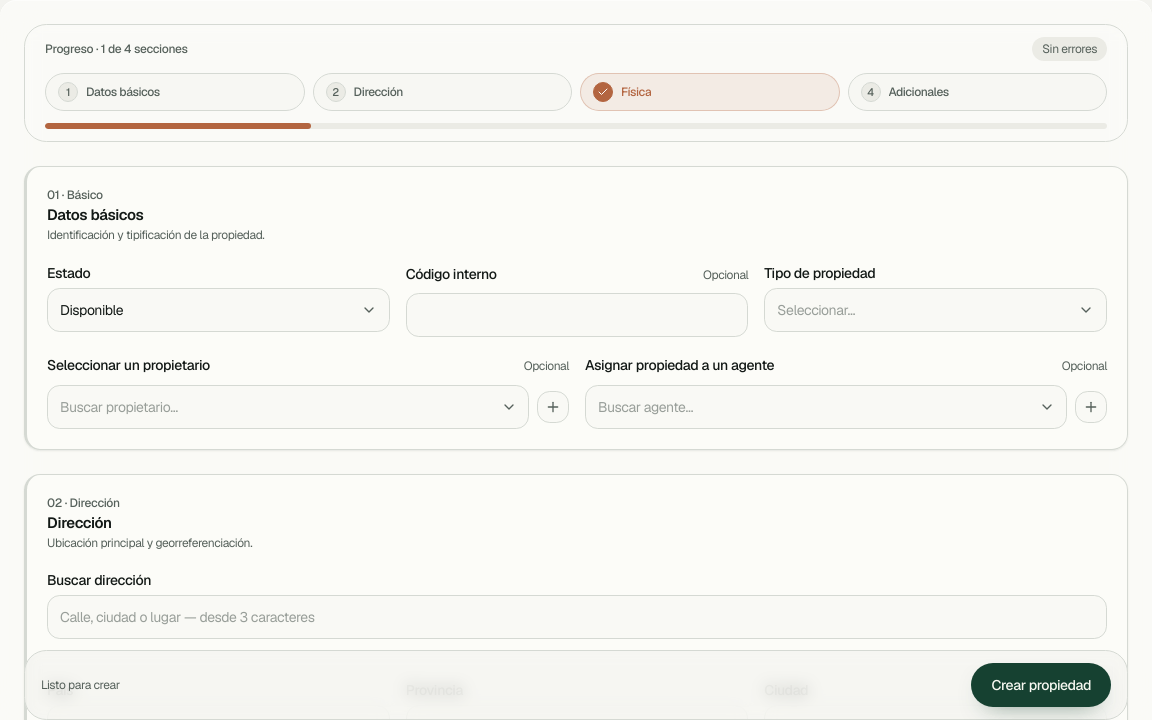
PropertyCreateForm › clears the inline error of a field as soon as the user edits it
Click the button "Crear propiedad" at (1041, 685), box [972,663,1111,707]
(page scrolled)
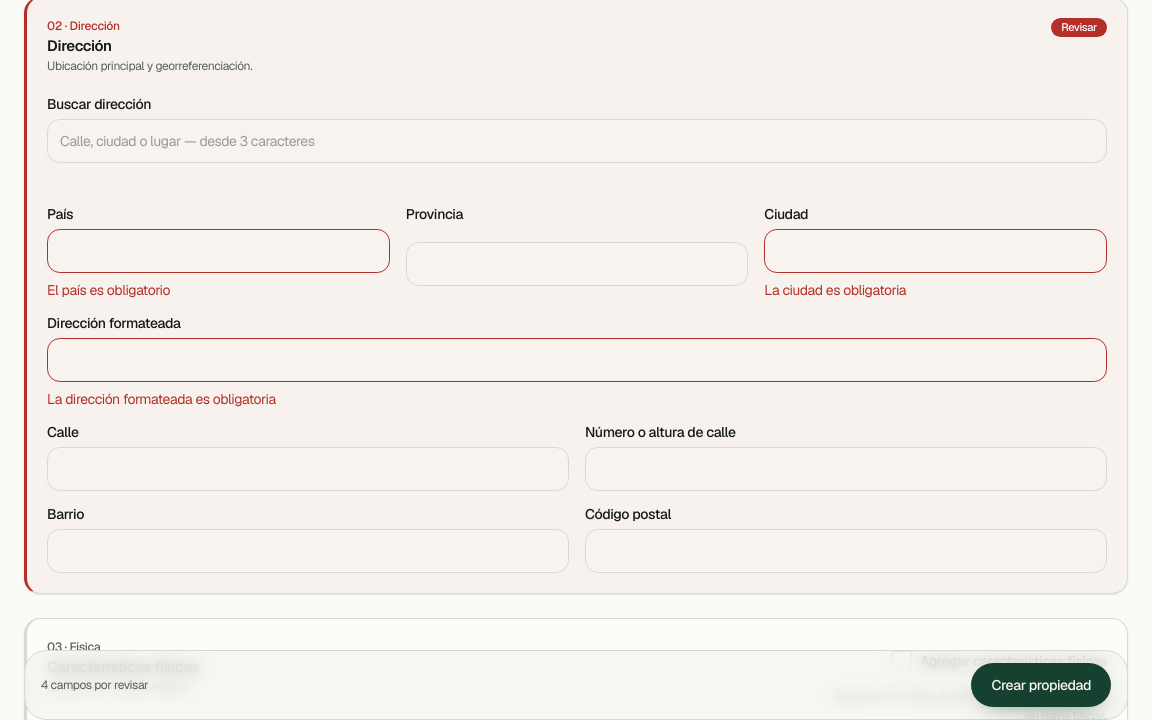
Result: the field labelled "Dirección formateada" is marked as invalid
Type "Av. Libertador 900" into the field labelled "Dirección formateada" at (577, 360), box [47,338,1107,382]
(page scrolled)
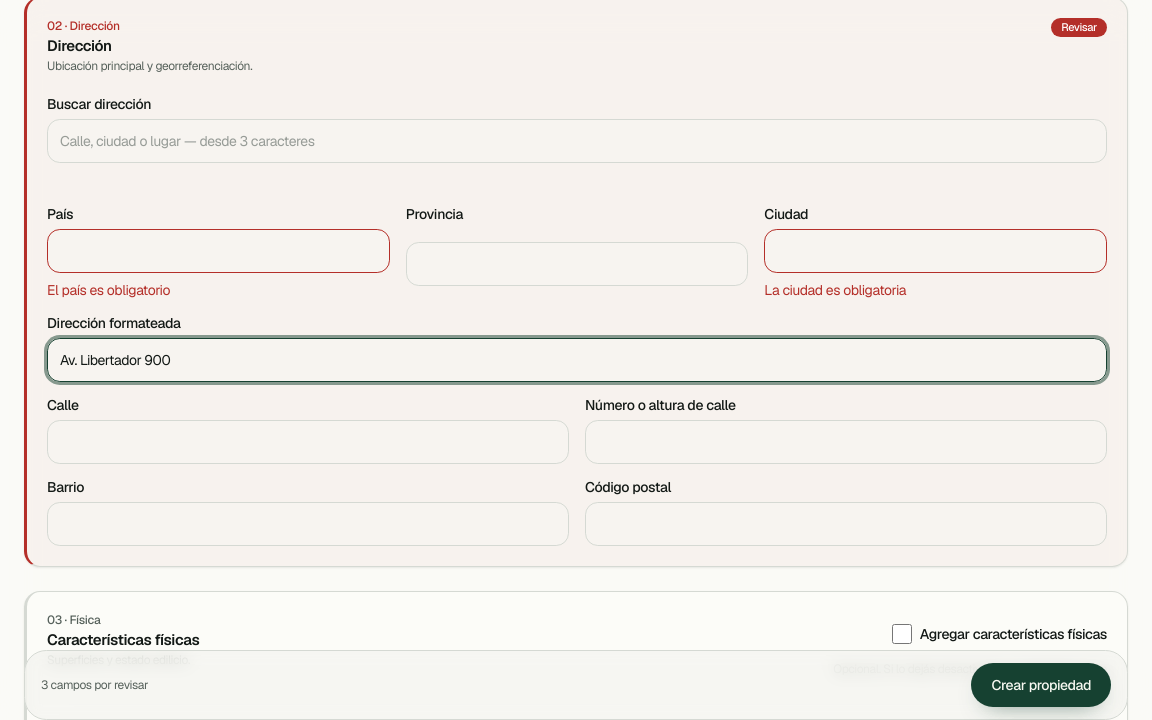
Result: the text "La dirección formateada es obligatoria" is gone
